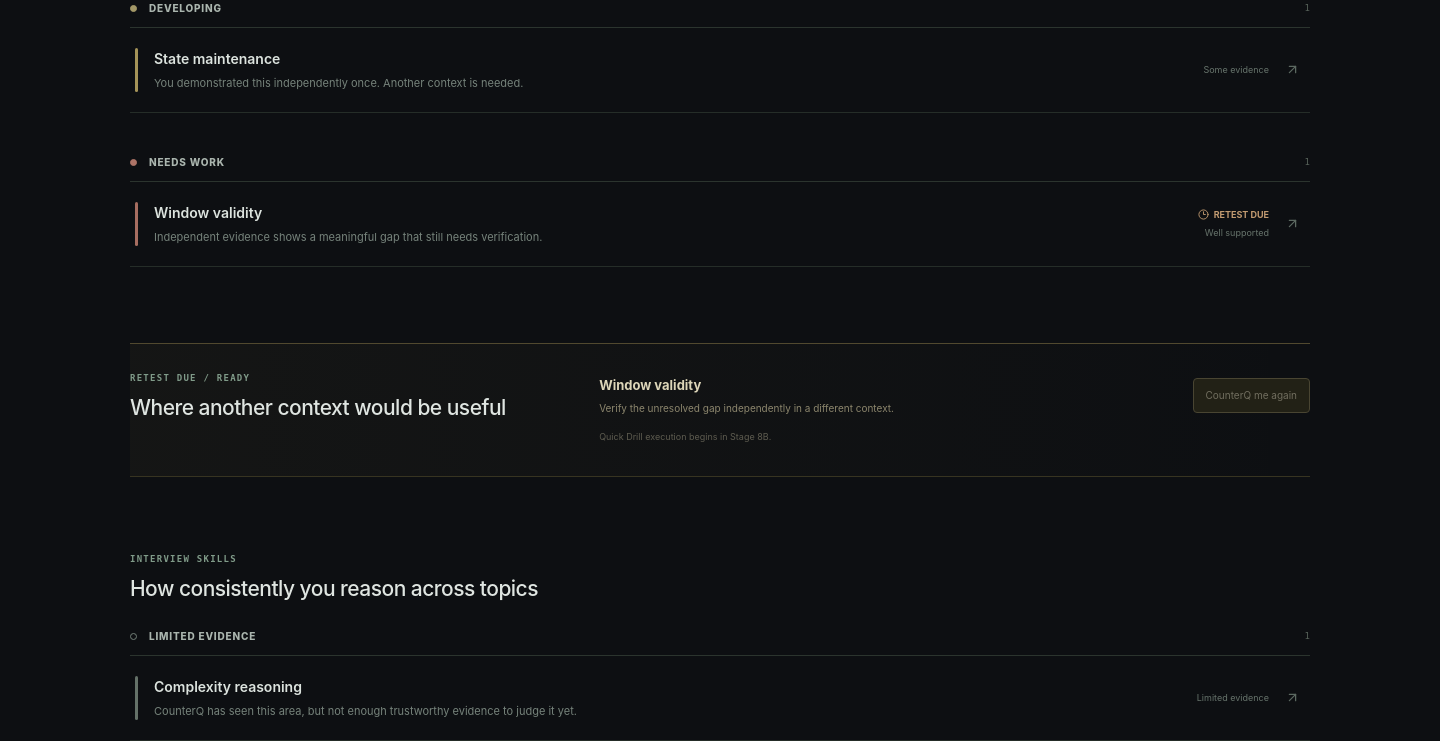
Scenario: Stage 8A Mastery Map › shows freshness and keeps fixture-only retest actions unavailable
(page scrolled)
Check: the text "Retest due" is shown, box [1198,208,1269,221]
Click the button with aria-label "open complexity reasoning mastery detail": (228, 686) [130,656,1310,740]
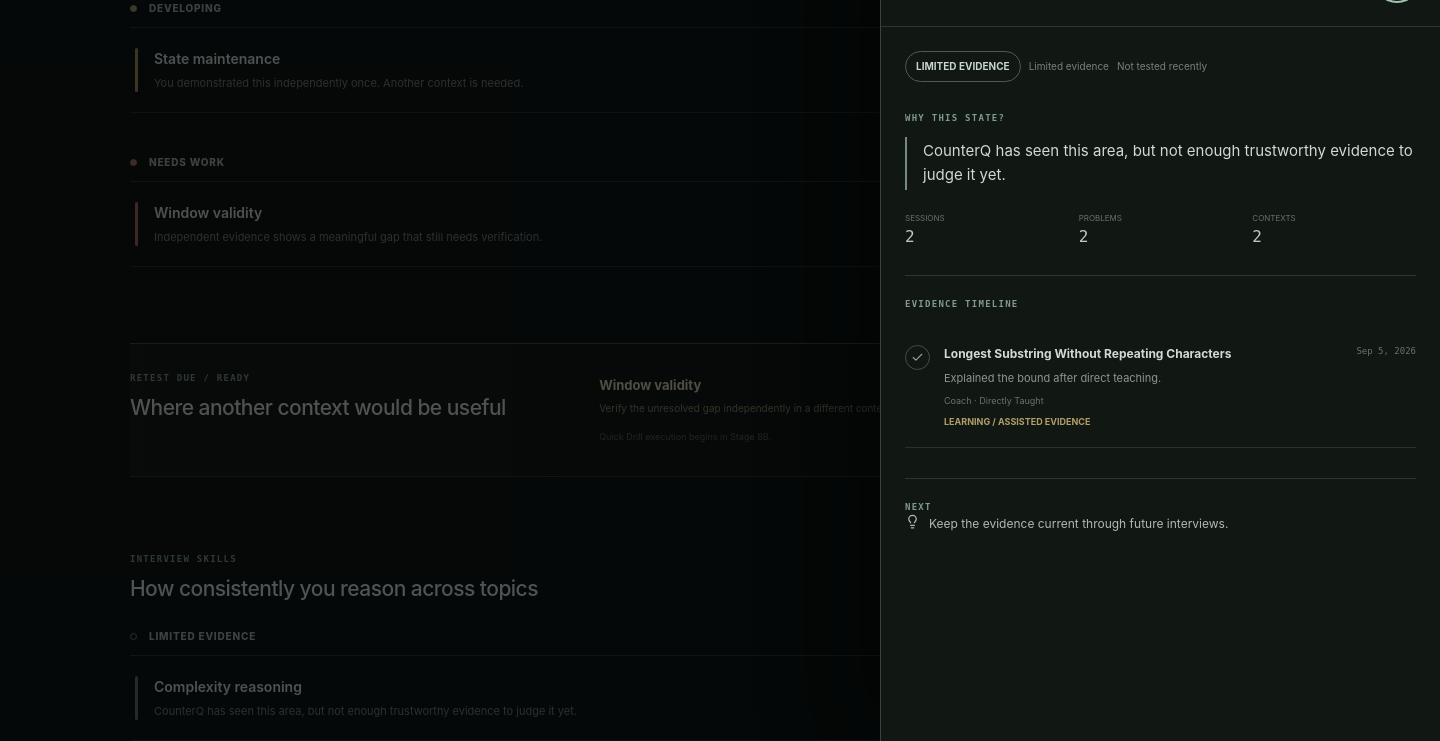
Check: the text "Quick Drill execution begins in Stage 8B." is shown, box [599,431,771,442]
Check: the text "Not tested recently" is shown, box [1117,59,1207,74]
